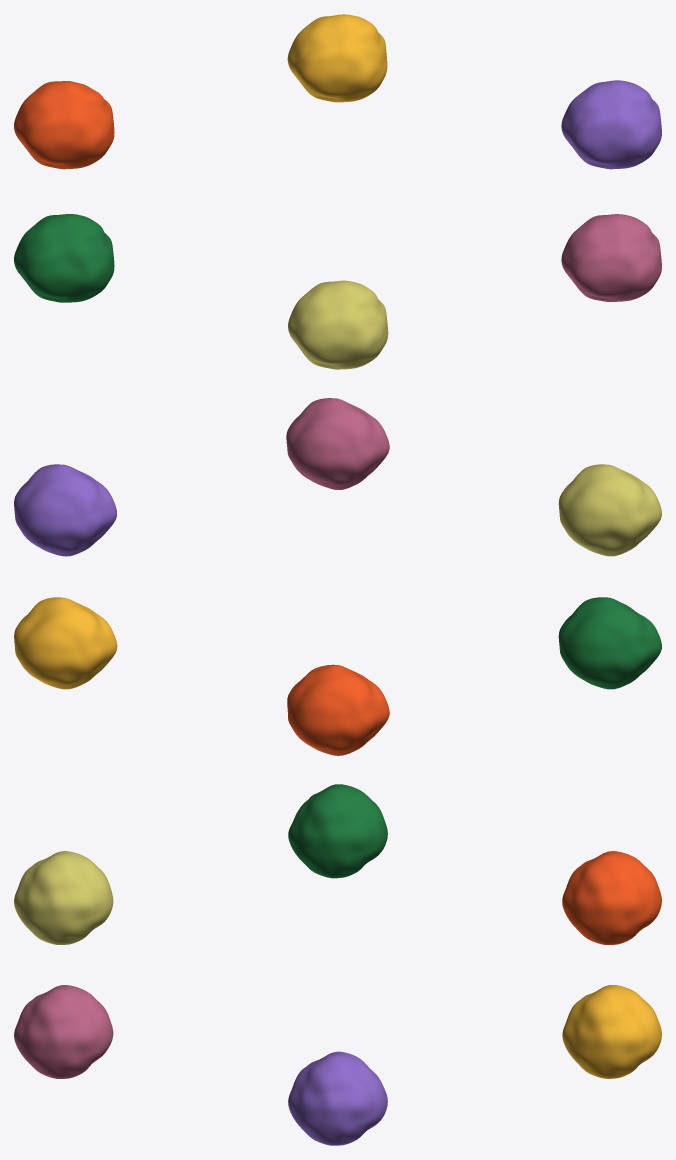
File: kfb_fluff_merge_6to1_reference.glb
3 renders of one model, top to bottom at view 1: azimuth 30°, elevation 25°; view 2: azimuth 150°, elevation 25°; view 3: azimuth 270°, elevation 25°, orthographic.
Parts seen in each view (by area): view 1: kfb_fluff_small_3, kfb_fluff_small_4, kfb_fluff_small_5, kfb_fluff_small_0, kfb_fluff_small_2, kfb_fluff_small_1; view 2: kfb_fluff_small_4, kfb_fluff_small_0, kfb_fluff_small_1, kfb_fluff_small_5, kfb_fluff_small_3, kfb_fluff_small_2; view 3: kfb_fluff_small_2, kfb_fluff_small_4, kfb_fluff_small_1, kfb_fluff_small_5, kfb_fluff_small_3, kfb_fluff_small_0.
Part boxes in pixels (x1,y1,x2,y2): kfb_fluff_small_3: (14, 214, 114, 302); kfb_fluff_small_4: (288, 280, 388, 369); kfb_fluff_small_5: (561, 214, 661, 301); kfb_fluff_small_0: (561, 80, 661, 169); kfb_fluff_small_2: (14, 81, 114, 169); kfb_fluff_small_1: (287, 14, 387, 102); kfb_fluff_small_4: (558, 464, 661, 556); kfb_fluff_small_0: (14, 464, 116, 556); kfb_fluff_small_1: (14, 597, 117, 689); kfb_fluff_small_5: (286, 398, 389, 489); kfb_fluff_small_3: (558, 597, 661, 689); kfb_fluff_small_2: (287, 664, 389, 755); kfb_fluff_small_2: (562, 851, 661, 944); kfb_fluff_small_4: (14, 851, 113, 944); kfb_fluff_small_1: (562, 985, 661, 1078); kfb_fluff_small_5: (14, 985, 113, 1078); kfb_fluff_small_3: (288, 784, 387, 878); kfb_fluff_small_0: (288, 1051, 387, 1145).
Bounding box in the file's own units: 3.02 × 0.724 × 2.66.
